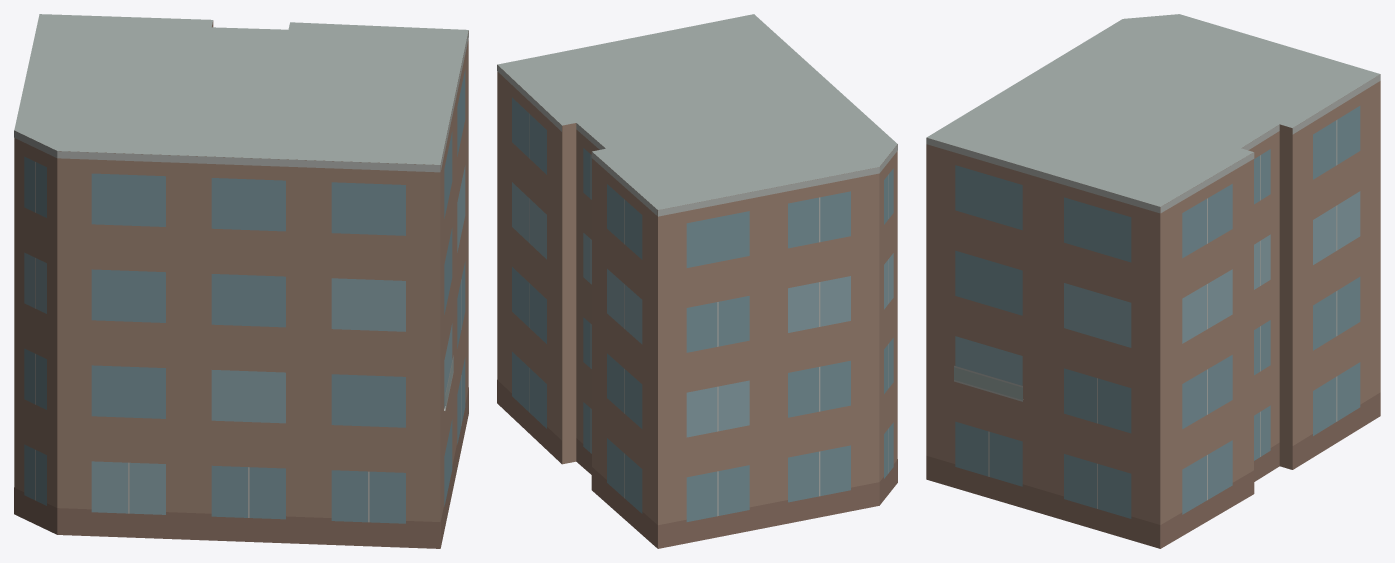
The model's file is survey-upis-32915557.glb.
The picture shows the model from 3 angles, left to right: view 1: azimuth 30°, elevation 25°; view 2: azimuth 150°, elevation 25°; view 3: azimuth 270°, elevation 25°; orthographic projection. The views are drawn at different scales.
Visible parts, largest first — view 1: survey-upis-32915557.tmp; view 2: survey-upis-32915557.tmp; view 3: survey-upis-32915557.tmp.
Boxes of the visible parts, left/top/right/bottom form: survey-upis-32915557.tmp: left=14, top=14, right=468, bottom=548; survey-upis-32915557.tmp: left=497, top=14, right=897, bottom=548; survey-upis-32915557.tmp: left=926, top=14, right=1380, bottom=548.
Bounding box in the file's own units: 15.38 × 12.7 × 15.3.
